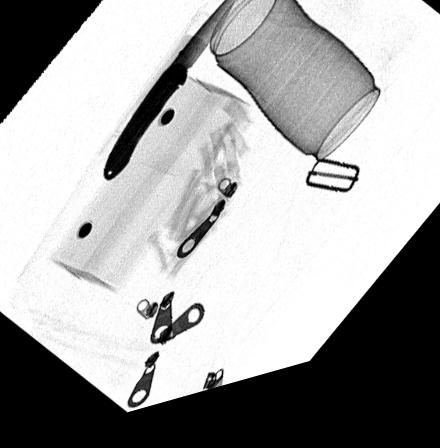Knife: (101, 0, 240, 187)
